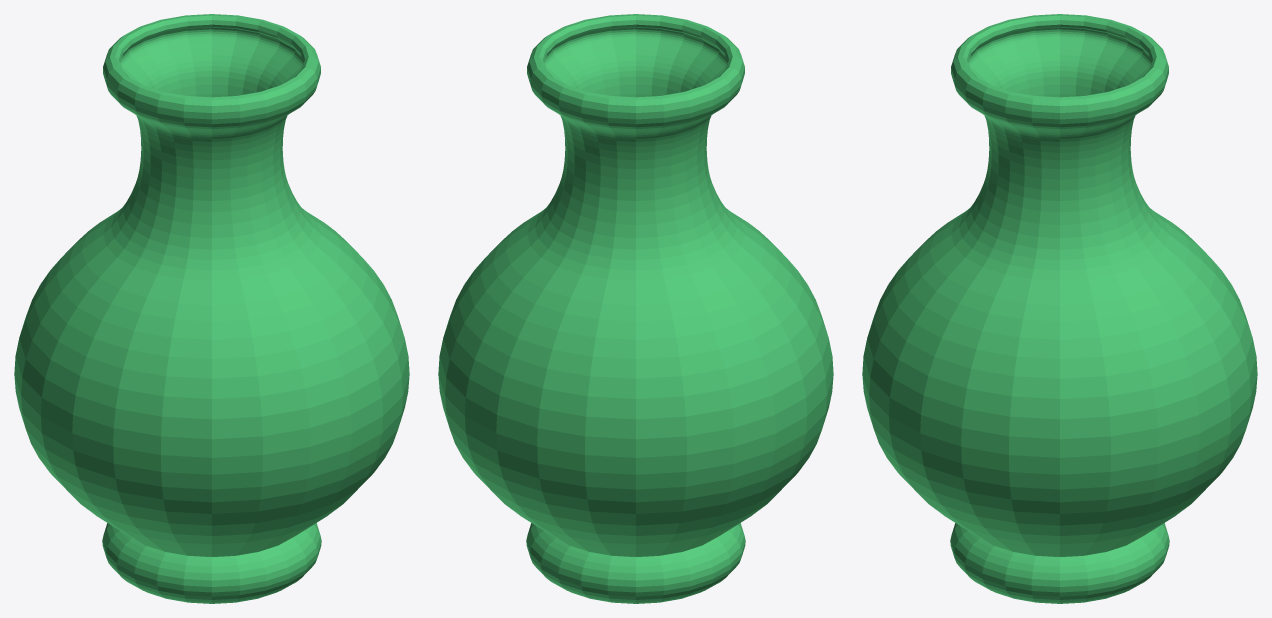
File: JarronEsmeralda.gltf
The picture shows the model from 3 angles, left to right: view 1: azimuth 30°, elevation 25°; view 2: azimuth 150°, elevation 25°; view 3: azimuth 270°, elevation 25°; orthographic projection.
Visible parts, largest first — view 1: Cube001; view 2: Cube001; view 3: Cube001.
Part boxes in pixels (box(x1,y1,x2,y2)): Cube001: box(14, 14, 409, 603); Cube001: box(438, 14, 833, 603); Cube001: box(862, 14, 1257, 603).
Size of the model in its own units: 2.87 by 4.12 by 2.87.
